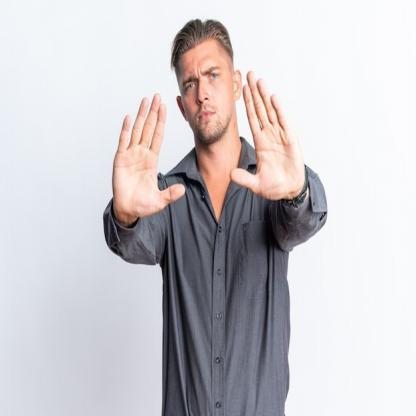stop: (228, 63, 304, 202), (108, 88, 186, 220)
